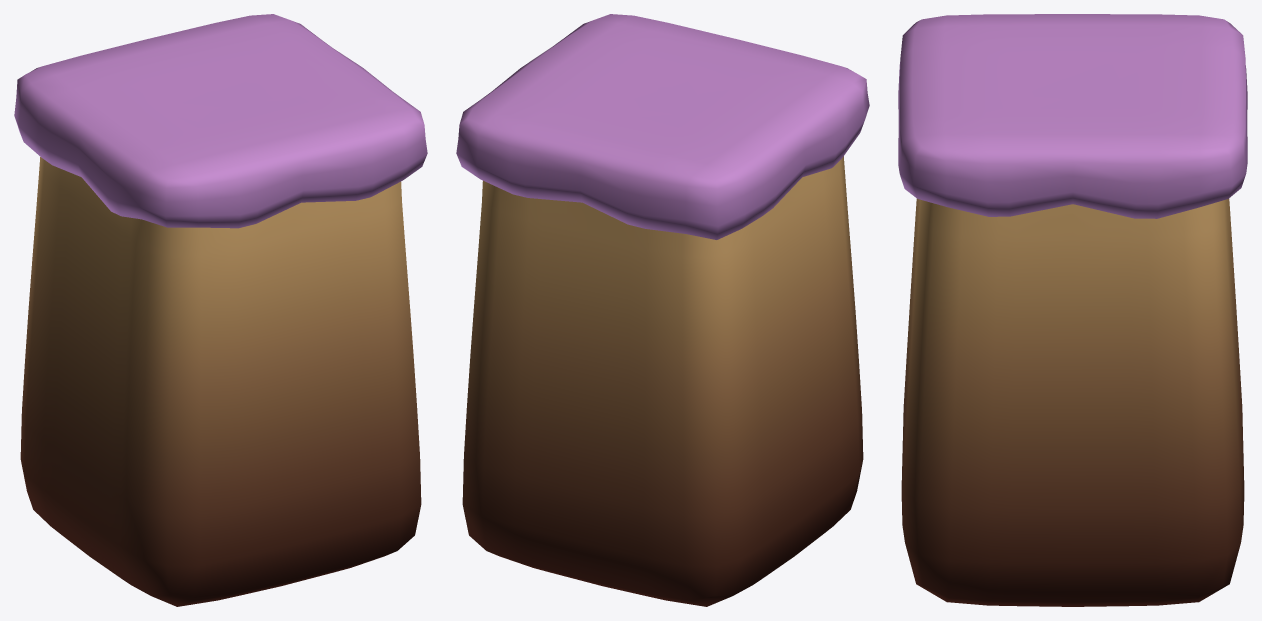
Rendered from TileCandy_3m.fbx.
The picture shows the model from 3 angles, left to right: view 1: azimuth 30°, elevation 25°; view 2: azimuth 150°, elevation 25°; view 3: azimuth 270°, elevation 25°; orthographic projection. The views are drawn at different scales.
Visible parts, largest first — view 1: TileCandy_3m; view 2: TileCandy_3m; view 3: TileCandy_3m.
Boxes of the visible parts, x1,y1,x2,y2 form: TileCandy_3m: [14, 14, 427, 606]; TileCandy_3m: [456, 14, 869, 606]; TileCandy_3m: [898, 14, 1247, 606].
Size of the model in its own units: 2 by 3 by 2.
